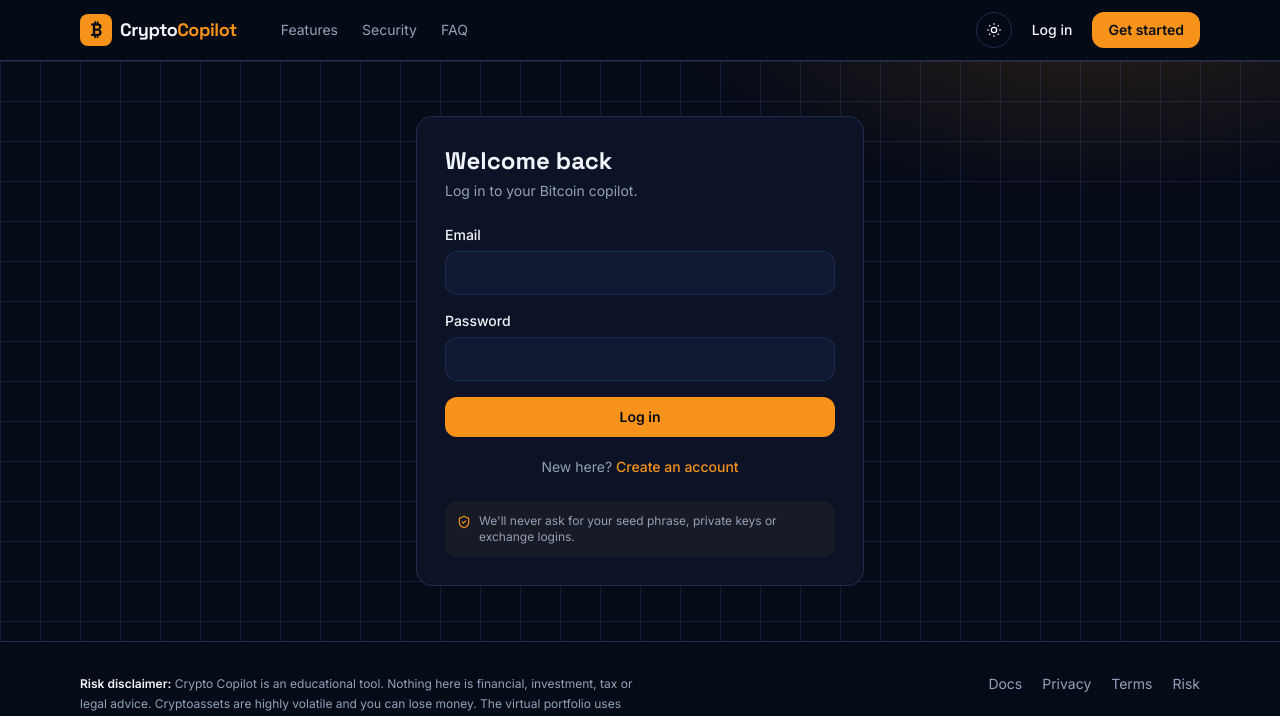
Test case: login sends CSRF header and shows server errors
Type "a@b.co" into the field labelled "Email". click: (640, 273)
box: [445, 251, 835, 295]
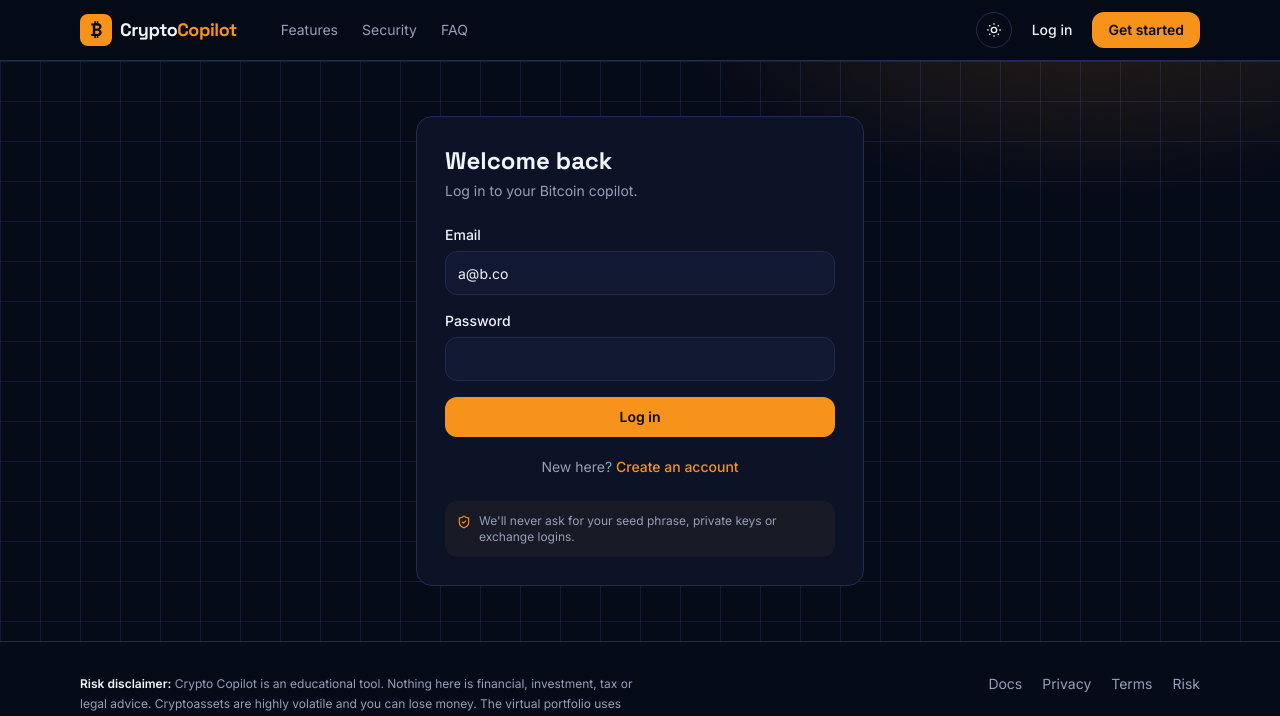
Type "secret123" into the password field labelled "Password". click: (640, 359)
box: [445, 337, 835, 381]
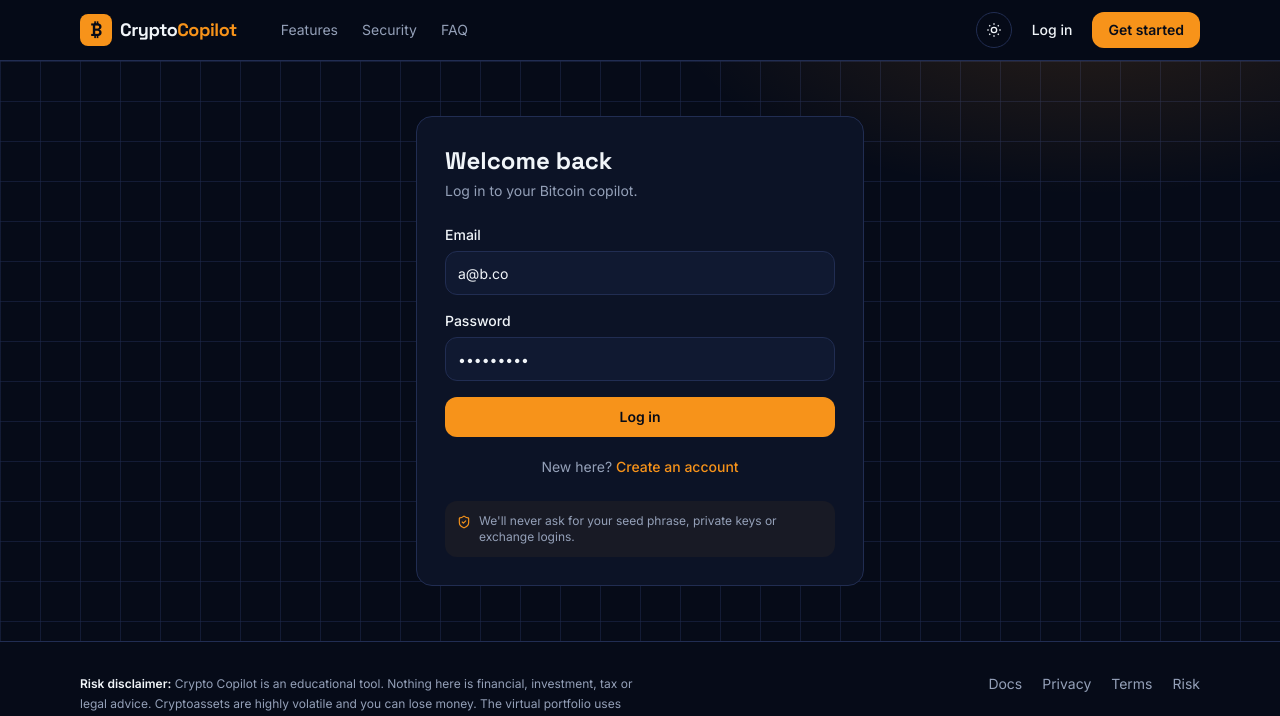
Click the button "Log in". click: (640, 417)
box: [445, 397, 835, 437]
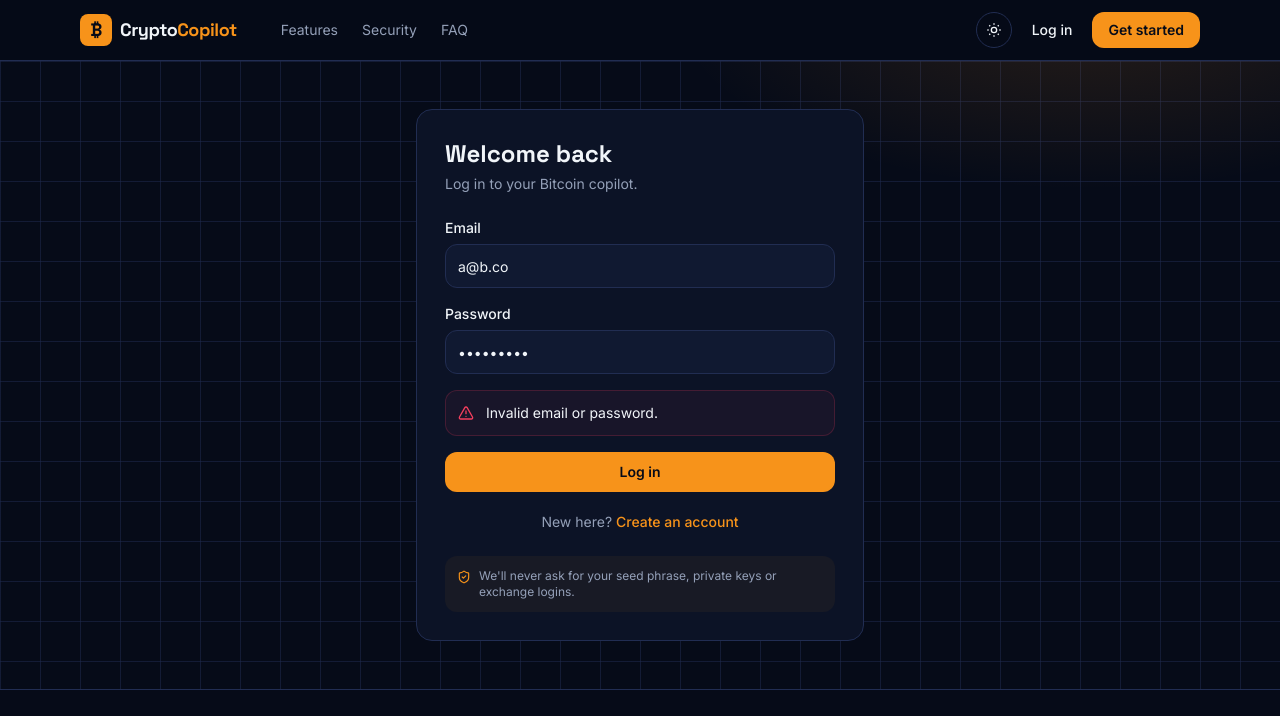
Expected: the element showing "CryptoCopilot" is shown, [120, 16, 237, 44]
Expected: the text "Invalid email or password." is shown, [486, 404, 658, 421]
